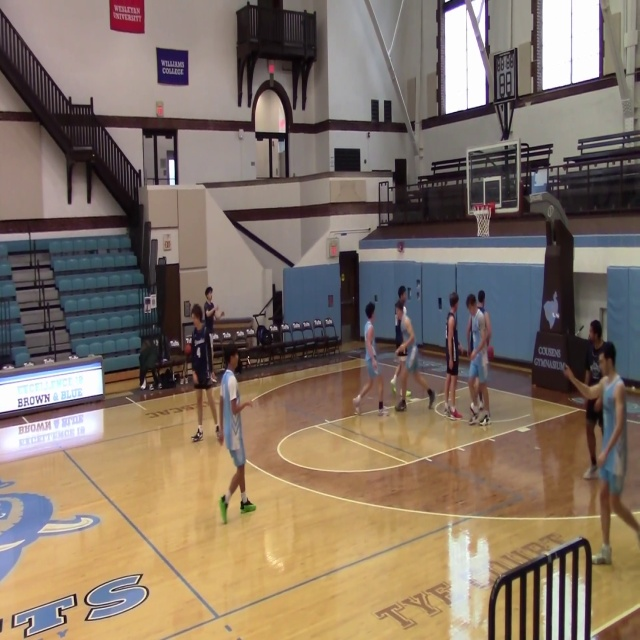Basketball: (487, 345, 494, 360), (184, 343, 191, 354), (405, 390, 412, 397)
